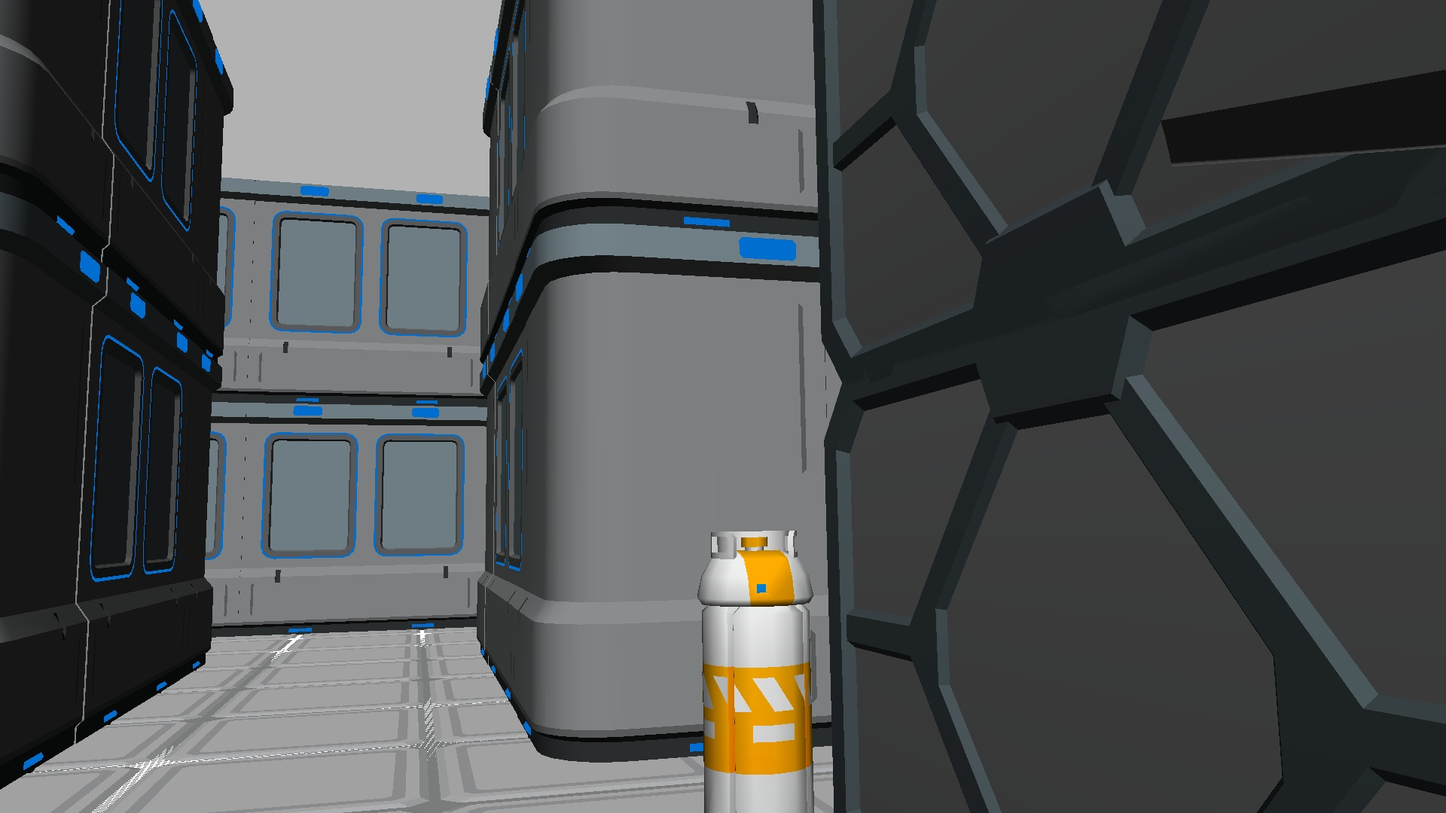yellow barrel: (697, 529, 815, 813)
